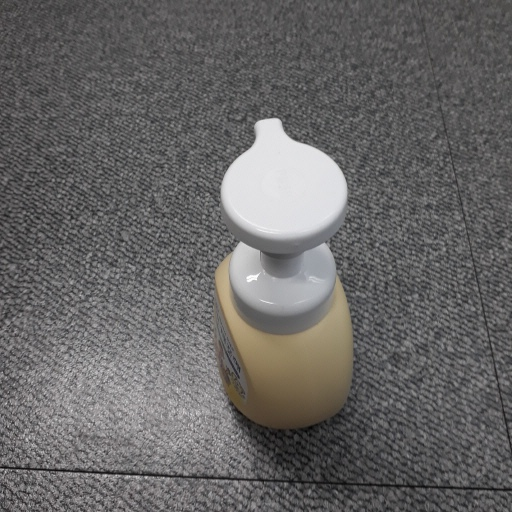Plastic_3: (199, 116, 367, 433)
